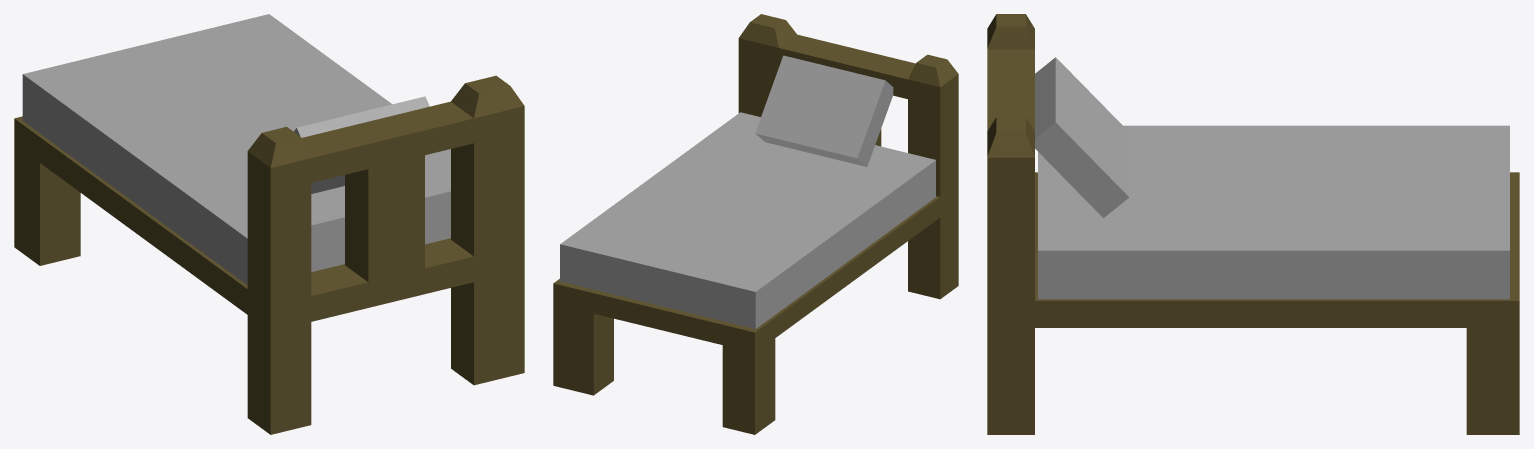
Rendered from Bed.fbx.
3 views of the same model, side by side, from view 1: azimuth 30°, elevation 25°; view 2: azimuth 150°, elevation 25°; view 3: azimuth 270°, elevation 25° (orthographic). The views are drawn at different scales.
Visible parts, largest first — view 1: BedFrame, Matress, Pillow; view 2: Matress, BedFrame, Pillow; view 3: Matress, BedFrame, Pillow.
Boxes of the visible parts, box(x1,y1,x2,y2) form: BedFrame: box(14, 75, 524, 434); Matress: box(22, 14, 450, 285); Pillow: box(294, 96, 429, 193); Matress: box(560, 112, 935, 328); BedFrame: box(553, 14, 958, 434); Pillow: box(755, 55, 893, 166); Matress: box(1038, 125, 1509, 299); BedFrame: box(987, 14, 1519, 434); Pillow: box(1035, 57, 1129, 217).
Size of the model in its own units: 35.13 by 37.81 by 61.42.
